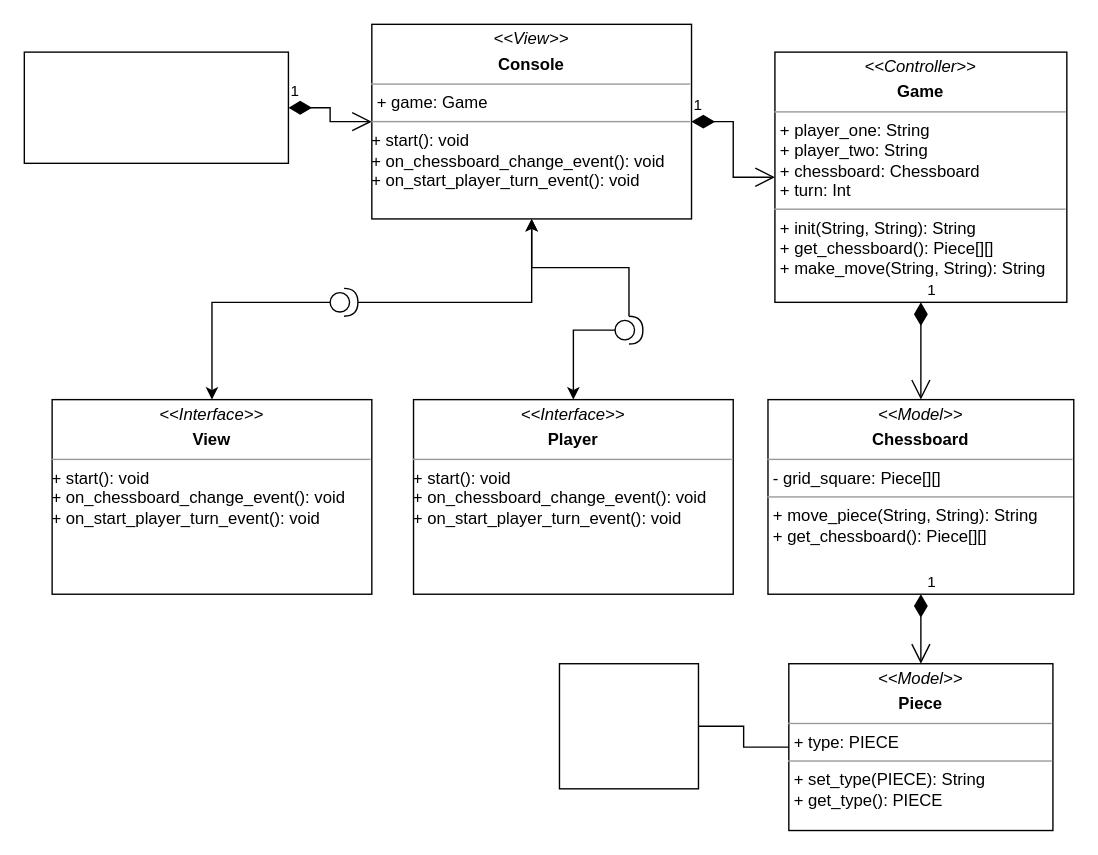
The diagram is 1098 pixels wide and 855 high, and some of its shapes have lost their labels. The shapes that lost their labels are listed below. From the top down, each one's centre as x and y in pixels, then its label:
At (155,107): "Main + view: View".
At (628,725): "<<Enum>> PIECE + King + Pawn".
